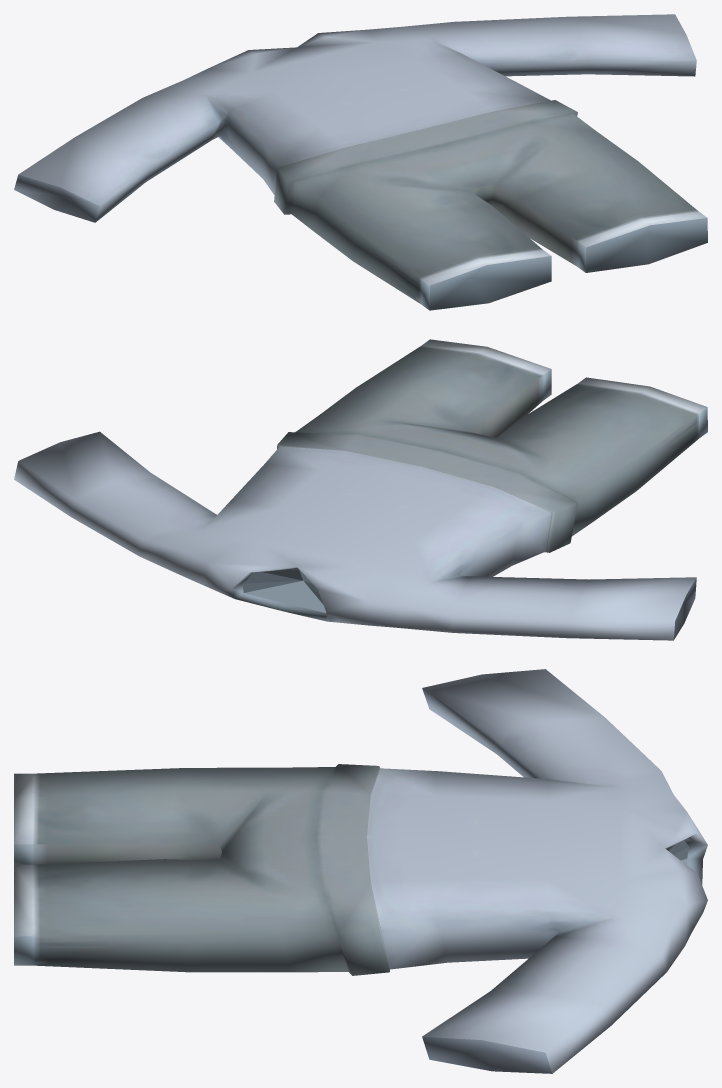
File: Avatar_Set_Base_Mod.FBX
3 renders of one model, top to bottom at view 1: azimuth 30°, elevation 25°; view 2: azimuth 150°, elevation 25°; view 3: azimuth 270°, elevation 25°, orthographic. The views are drawn at different scales.
Parts seen in each view (by area): view 1: Avatar_Jacket_Base_Mod; view 2: Avatar_Jacket_Base_Mod; view 3: Avatar_Jacket_Base_Mod.
Part boxes in pixels (bbox=[...]): Avatar_Jacket_Base_Mod: bbox=[14, 14, 707, 310]; Avatar_Jacket_Base_Mod: bbox=[14, 339, 707, 640]; Avatar_Jacket_Base_Mod: bbox=[14, 669, 707, 1073].
Bounding box in the file's own units: 129 × 10.53 × 98.24.
